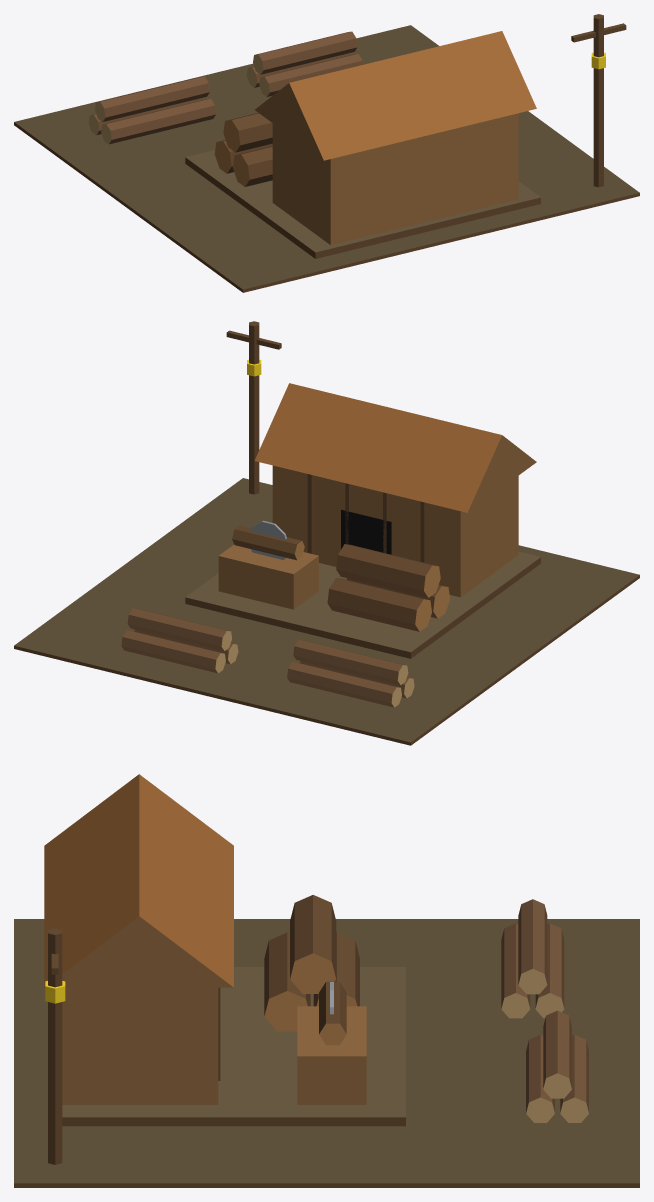
Rendered from lumber_camp_2.glb.
The picture shows the model from 3 angles, top to bottom: view 1: azimuth 30°, elevation 25°; view 2: azimuth 150°, elevation 25°; view 3: azimuth 270°, elevation 25°; orthographic projection. The views are drawn at different scales.
Visible parts, largest first — view 1: lumber_camp_2; view 2: lumber_camp_2; view 3: lumber_camp_2.
Boxes of the visible parts, left/top/right/bottom form: lumber_camp_2: left=14, top=14, right=639, bottom=292; lumber_camp_2: left=14, top=321, right=639, bottom=745; lumber_camp_2: left=14, top=774, right=639, bottom=1187.
Size of the model in its own units: 3.8 by 1.6 by 3.8.
